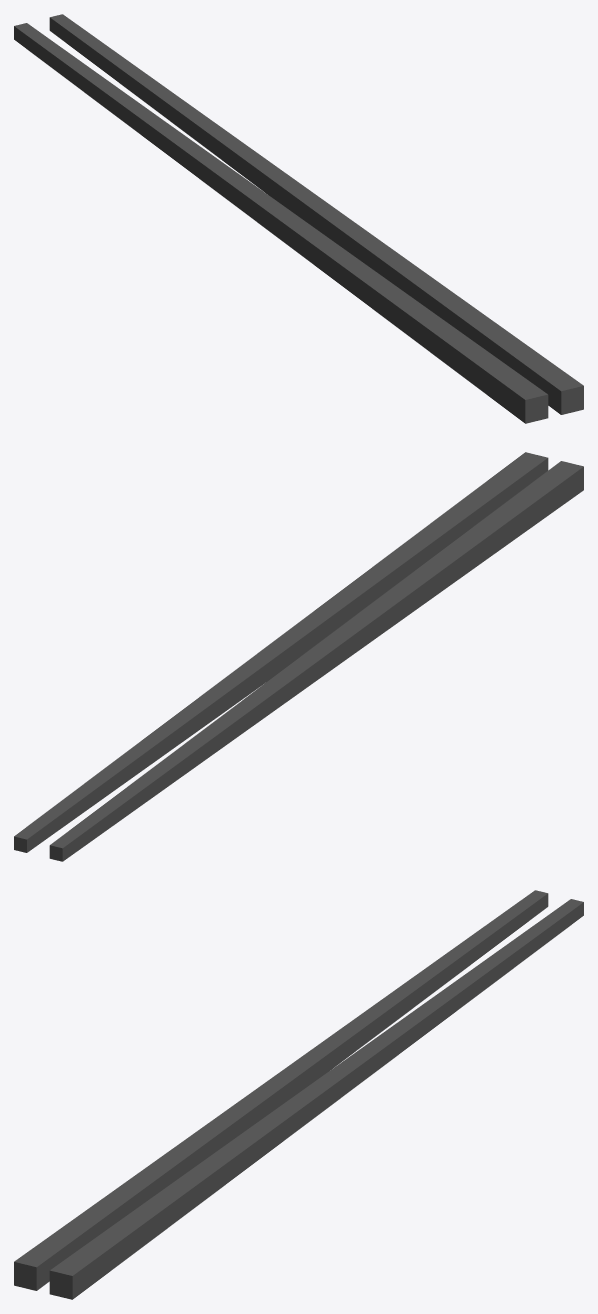
Rendered from Itr_Obj_Chopsticks_04.FBX.
3 renders of one model, top to bottom at view 1: azimuth 30°, elevation 25°; view 2: azimuth 150°, elevation 25°; view 3: azimuth 330°, elevation 25°, orthographic.
Parts seen in each view (by area): view 1: Itr_Obj_Chopsticks_04; view 2: Itr_Obj_Chopsticks_04; view 3: Itr_Obj_Chopsticks_04.
Part boxes in pixels (x1,y1,x2,y2): Itr_Obj_Chopsticks_04: (14,14,583,423); Itr_Obj_Chopsticks_04: (14,452,583,861); Itr_Obj_Chopsticks_04: (14,890,583,1299).
Size of the model in its own units: 0.286 by 0.1115 by 4.37.
